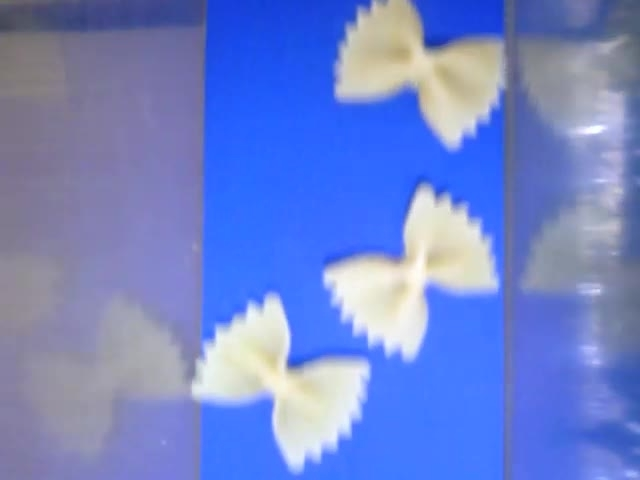farfalle: (192, 294, 372, 472), (323, 183, 499, 363), (336, 1, 507, 150)
